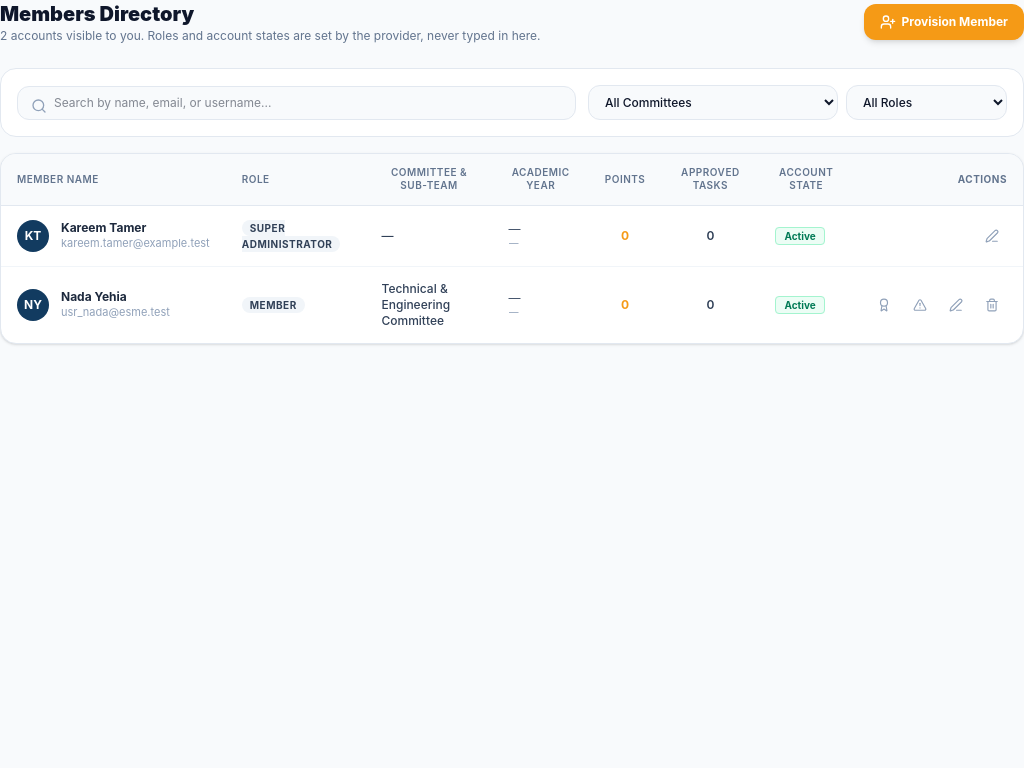
Test case: the academic answers on a profile › reads an account that never gave them as unrecorded rather than as a guess
Check: the text "Nada Yehia" shows "—", box [509, 290, 521, 305]
Click the button named "Open record" in the row of "NY" at (956, 305), box [941, 292, 971, 318]
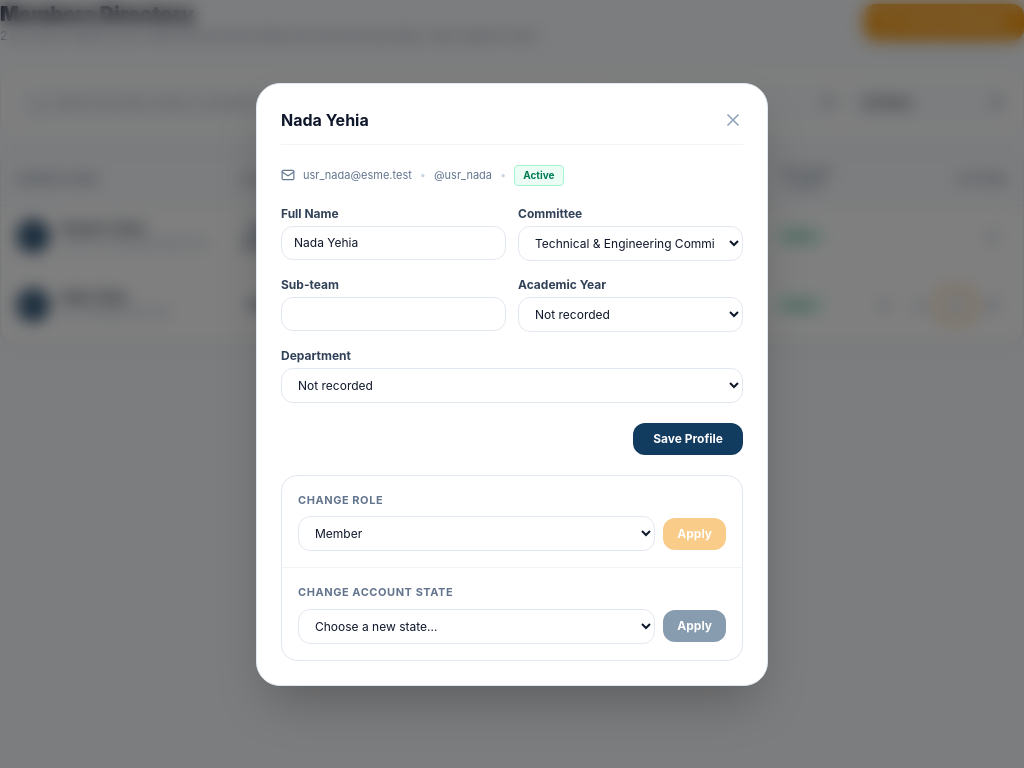
Check: the dropdown labelled "Academic Year" shows "Not recorded", box [518, 296, 743, 332]
Check: the dropdown labelled "Department" shows "Not recorded", box [281, 368, 743, 402]
